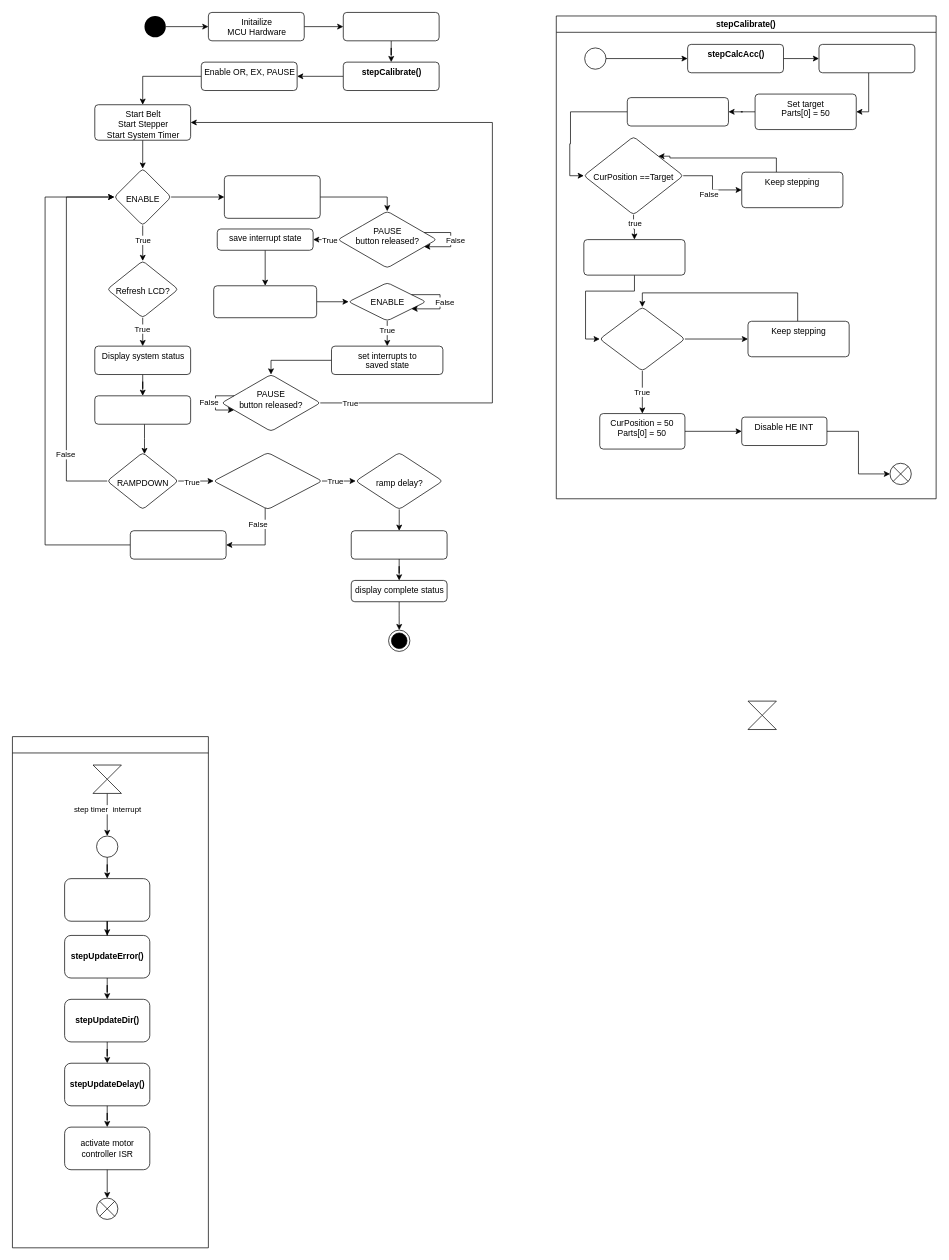
Image size: 949x1260. Some labels were removed from this diagram. The shapes that lost their labels are listed below. From the top down, each one's box as (x1, y1, x2, y2) in pixels, then its label:
(343, 12, 439, 41): Setup Timers and LCD
(818, 44, 915, 73): Enable HE INT
(627, 97, 728, 126): stepStart()
(224, 175, 320, 218): brake motor stop stepper stop system timer
(583, 239, 685, 275): Reset CurPosition = 0 HALLSENSOR = 0
(213, 285, 317, 318): disable interrupts except PAUSE
(599, 306, 685, 371): HALLSENOR == 1
(94, 395, 191, 424): Reset refresh delay
(213, 452, 322, 509): countPart ==countSort
(130, 530, 226, 559): reset ramp delay
(351, 530, 447, 559): disable hardware and interrupts
(64, 878, 150, 921): step()
(12, 736, 208, 1248): ISR(TIMER3_COMPA_vect)
